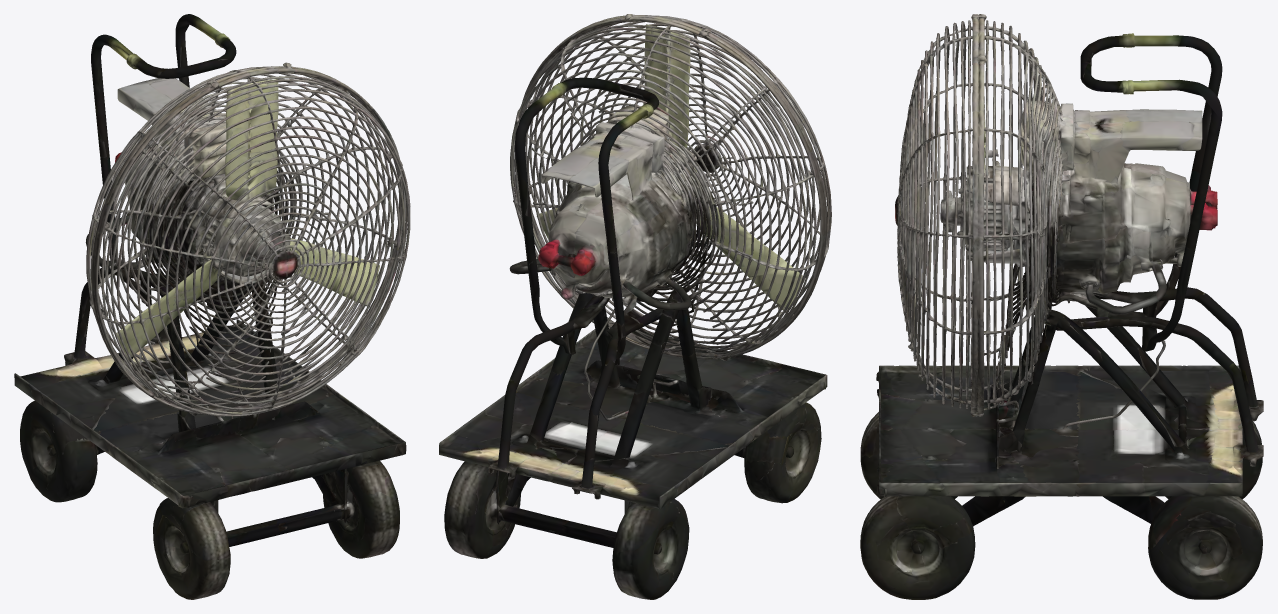
The model's file is turbo_fan.glb.
The picture shows the model from 3 angles, left to right: view 1: azimuth 30°, elevation 25°; view 2: azimuth 150°, elevation 25°; view 3: azimuth 270°, elevation 25°; orthographic projection. The views are drawn at different scales.
Bounding box in the file's own units: 1.29 × 1.9 × 1.34.
1 material, 1 textured.
